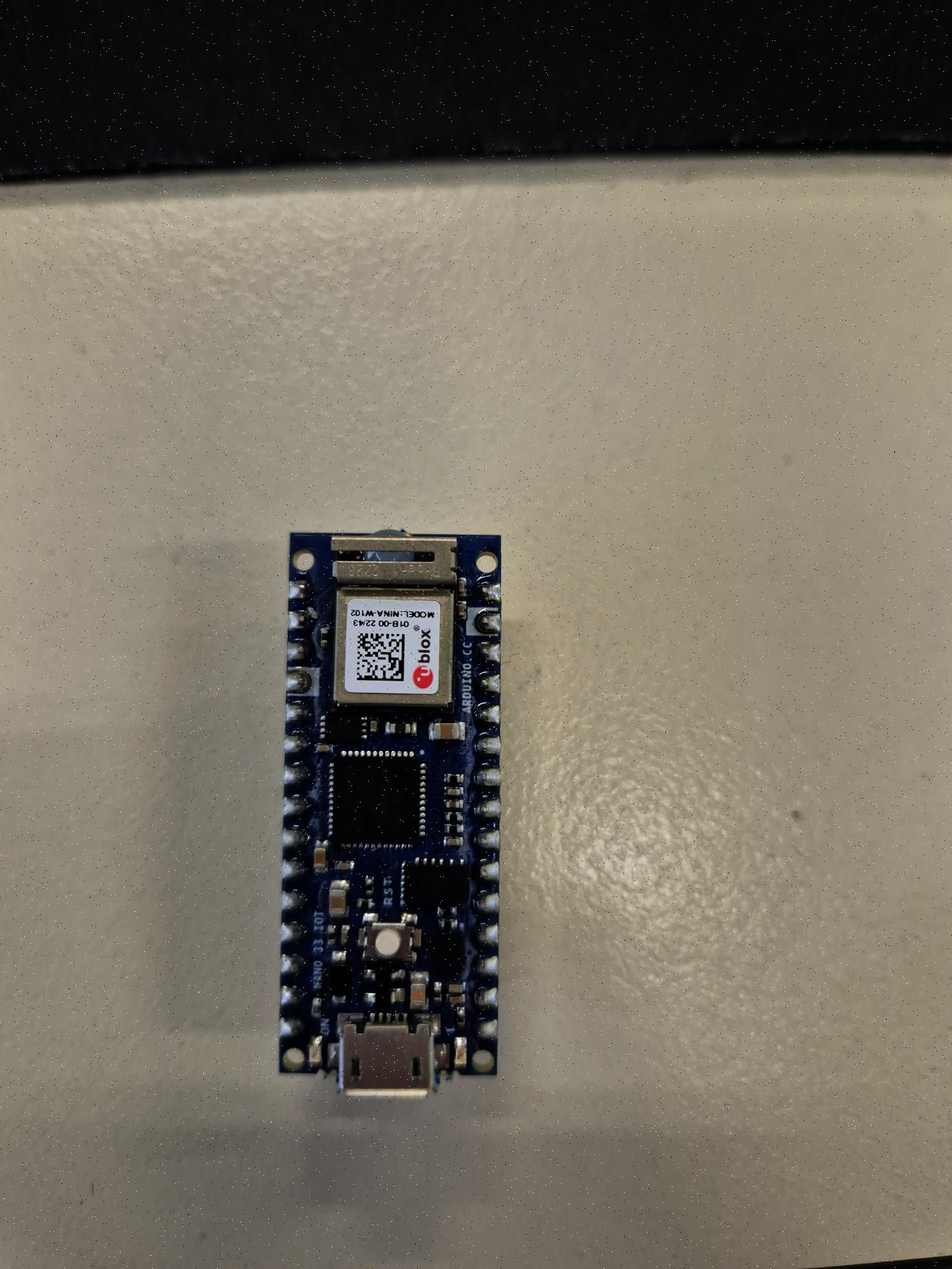arduino-nano-iot-33: (286, 525, 503, 1087)
